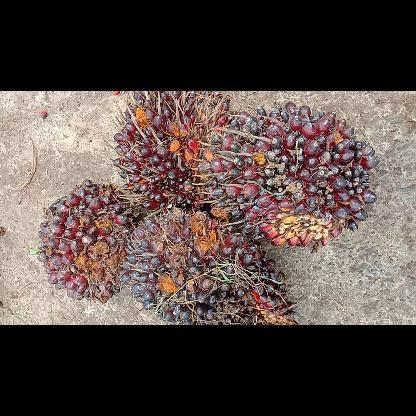Kurang masak: (196, 99, 380, 248), (118, 204, 302, 324), (112, 90, 242, 212), (32, 181, 150, 305)
